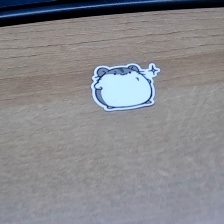mouse: (90, 61, 163, 116)
